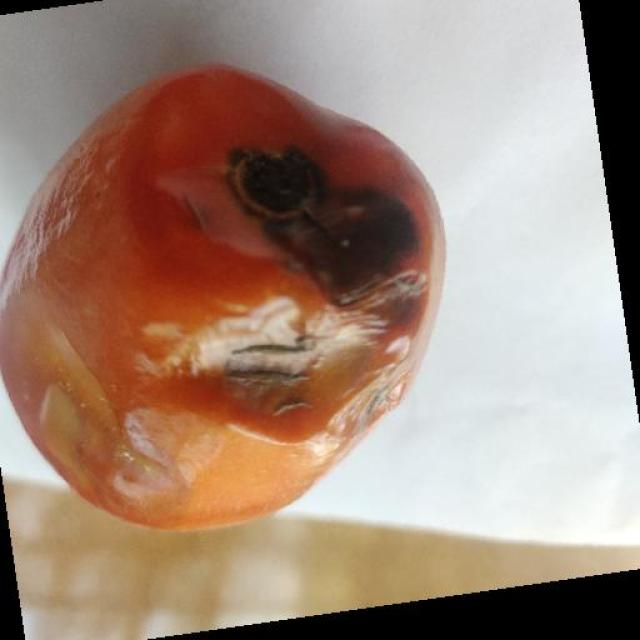Wet Waste: (19, 41, 468, 552)
